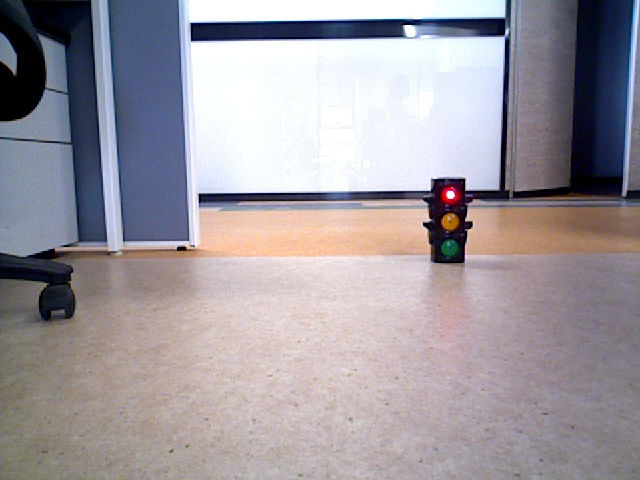red: (430, 182, 463, 260)
